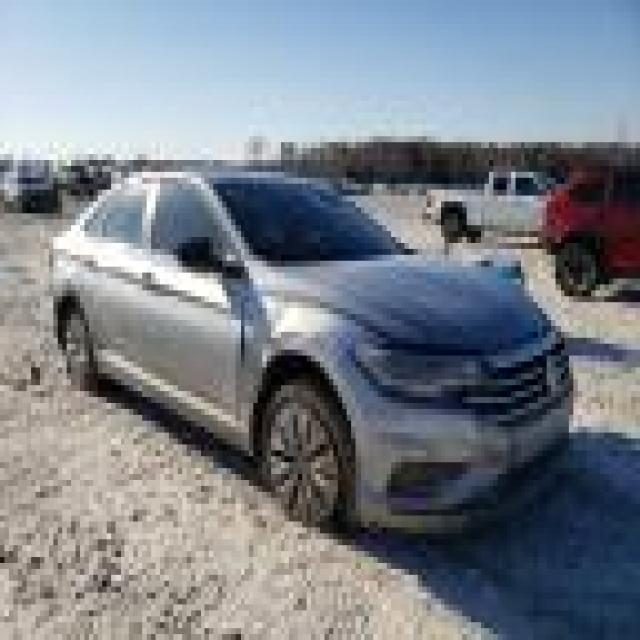minor: (369, 271, 536, 482)
